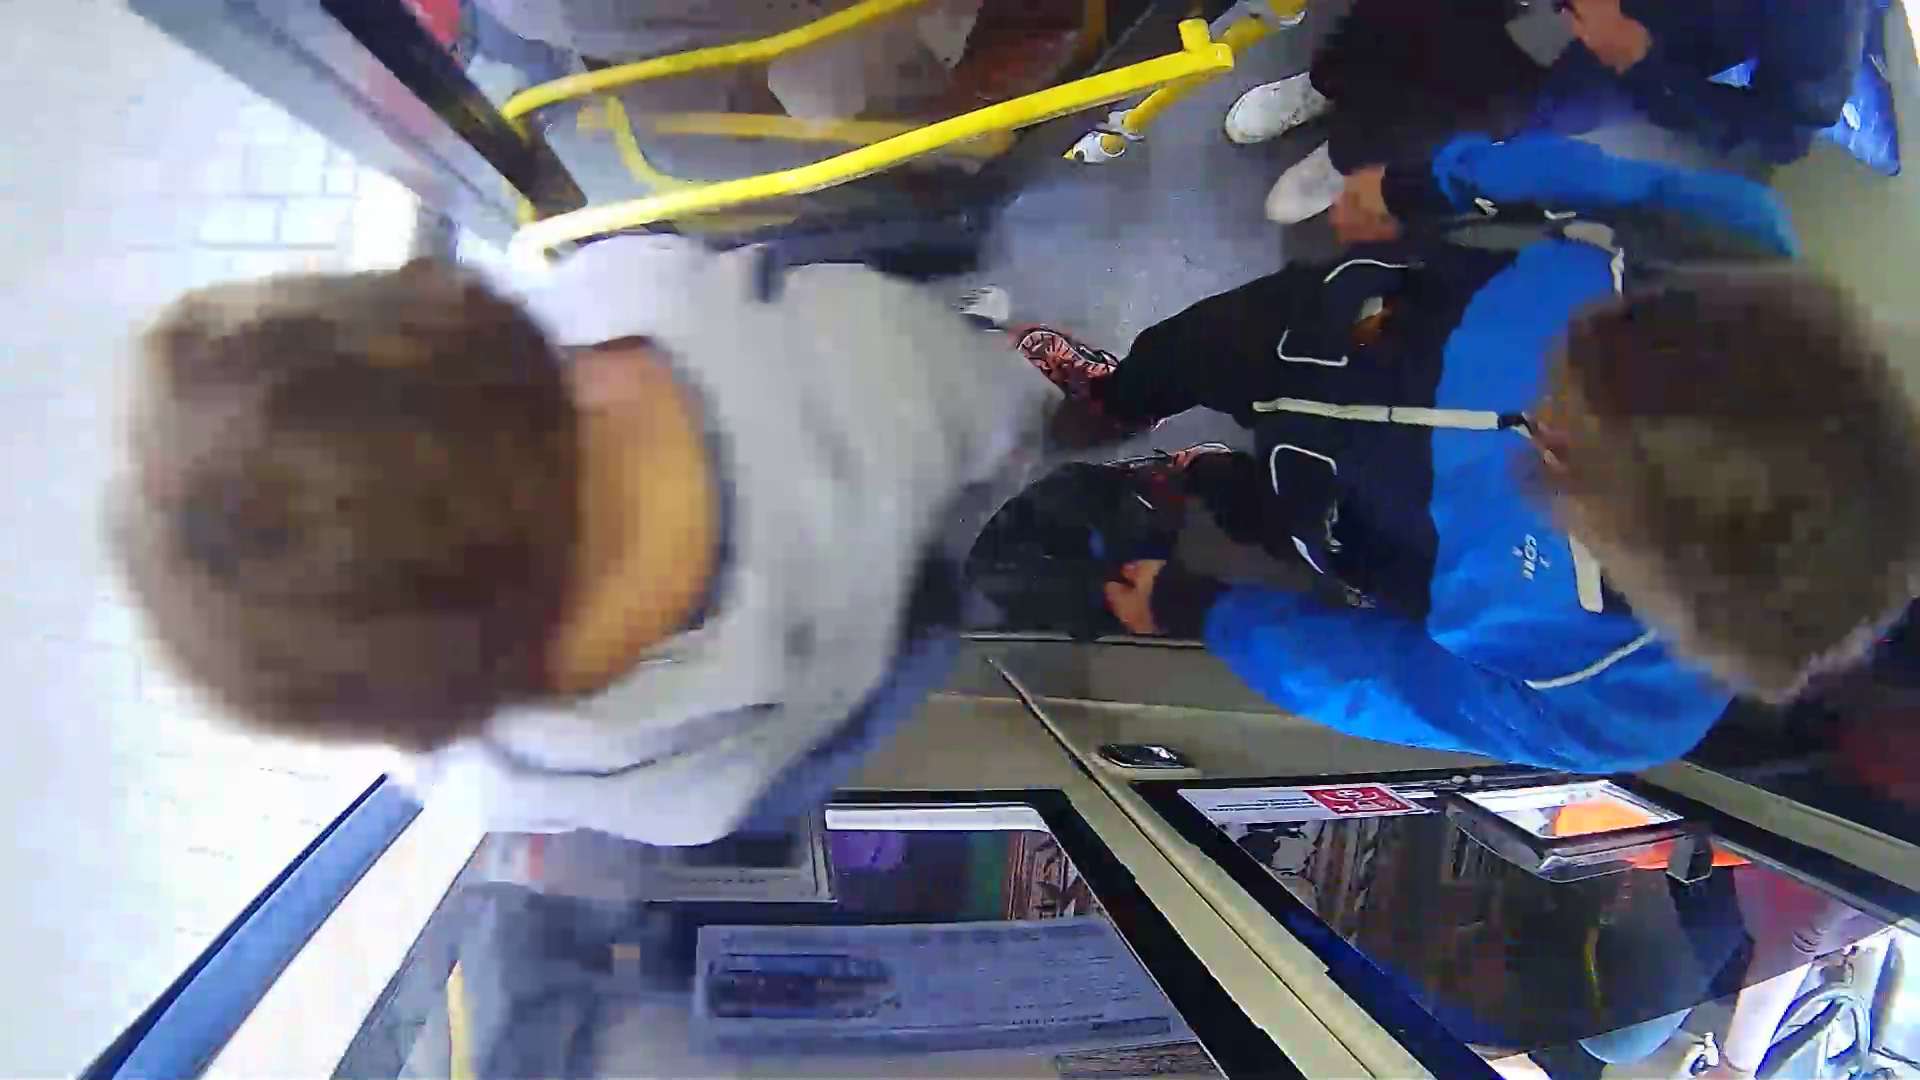person: (68, 118, 1050, 891), (1200, 117, 1882, 840)
